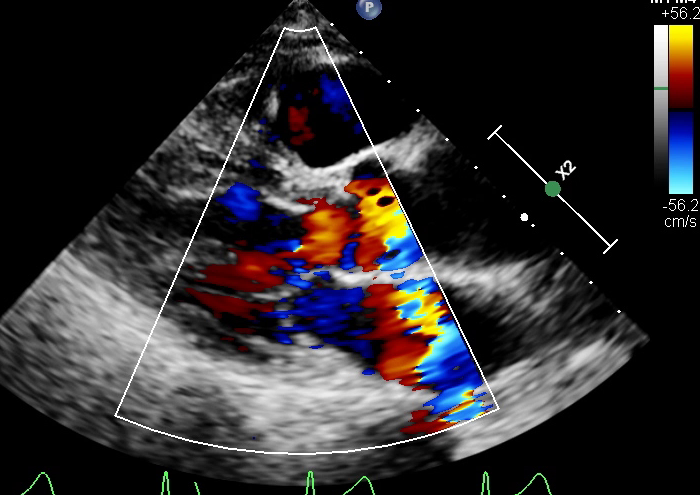AR: (310, 181, 408, 266)
